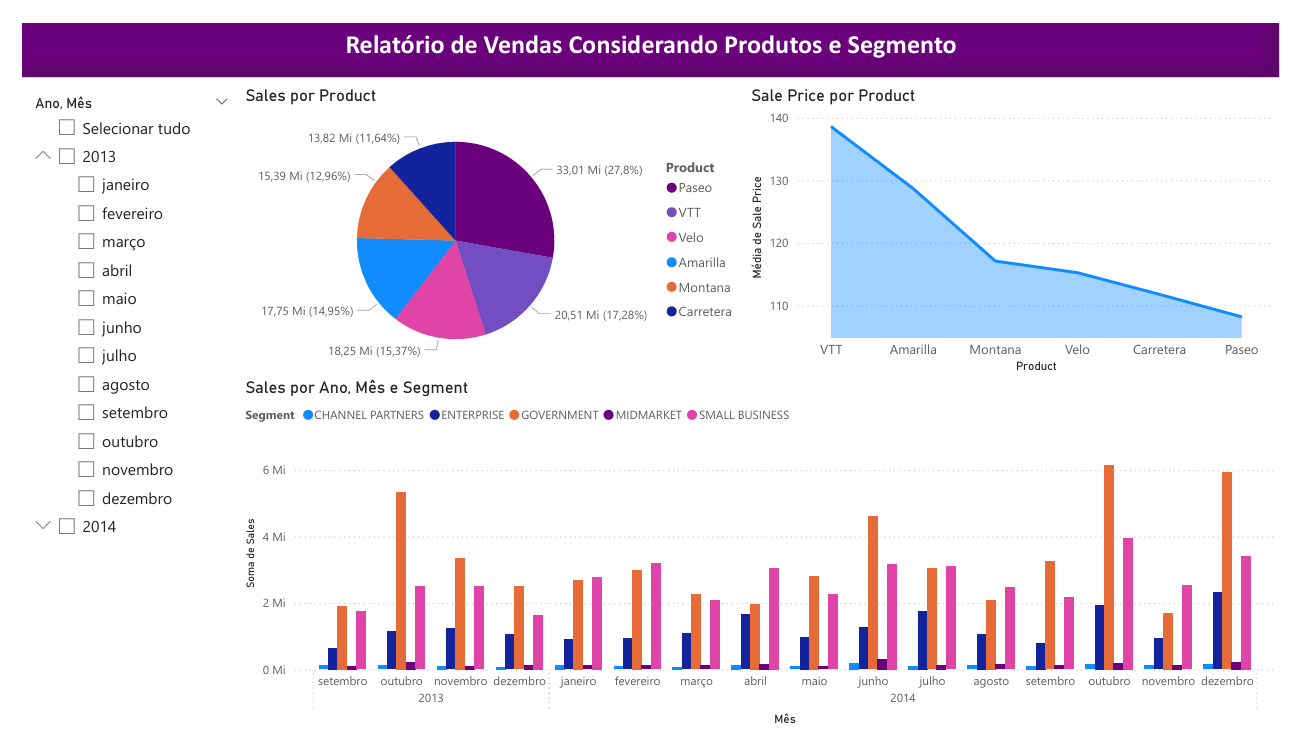

The dashboard page shown, as its layout file describes it:
{"tool":"powerbi","page":{"name":"Página 1","canvas":[1280,720],"ordinal":0},"visuals":[{"type":"pieChart","title":"Sales por Product","fields":{"Category":["financials.Product"],"Y":["Sum(financials.Sales)"]},"box":[221.8,63.4,515.3,296.2],"z":0},{"type":"areaChart","title":"Sale Price por Product","fields":{"Category":["financials.Product"],"Y":["Avg(financials.Sale Price)"]},"box":[737.1,63.4,542.9,296.2],"z":1000},{"type":"clusteredColumnChart","title":"Sales por Ano, Mês e Segment","fields":{"Category":["financials.Date.Variation.Hierarquia de datas.Ano","financials.Date.Variation.Hierarquia de datas.Mês"],"Y":["Sum(financials.Sales)"],"Series":["financials.Segment"]},"box":[221.8,359.6,1058.2,359.6],"z":2000},{"type":"slicer","fields":{"Values":["financials.Date.Variation.Hierarquia de datas.Ano","financials.Date.Variation.Hierarquia de datas.Mês"]},"box":[0,67.5,221.8,653.1],"z":3000},{"type":"textbox","box":[0,0,1280,55.1],"z":4000}]}

Visuals, with their boxes in screenshot pixels (x1, y1, x2, y2), scaled from the page's 1280x720 canvas onto the 1301x753 screenshot:
"Sales por Product" pieChart: [x1=225, y1=66, x2=749, y2=376]
"Sale Price por Product" areaChart: [x1=749, y1=66, x2=1300, y2=376]
"Sales por Ano, Mês e Segment" clusteredColumnChart: [x1=225, y1=376, x2=1300, y2=752]
slicer - financials.Date.Variation.Hierarquia de datas.Ano x financials.Date.Variation.Hierarquia de datas.Mês: [x1=0, y1=71, x2=225, y2=752]
textbox: [x1=0, y1=0, x2=1300, y2=58]
